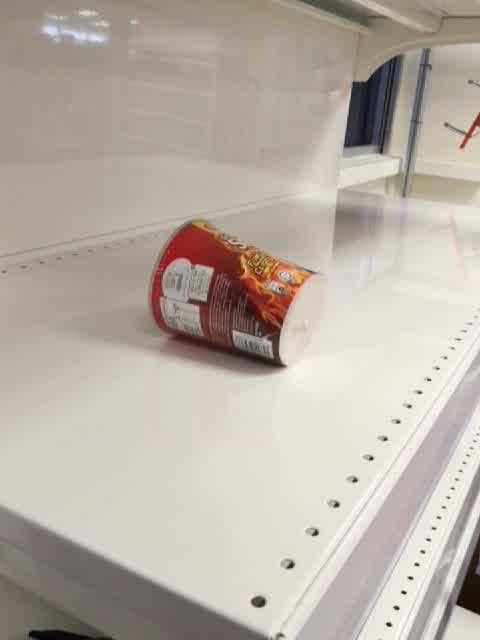maggi: (145, 217, 330, 372)
